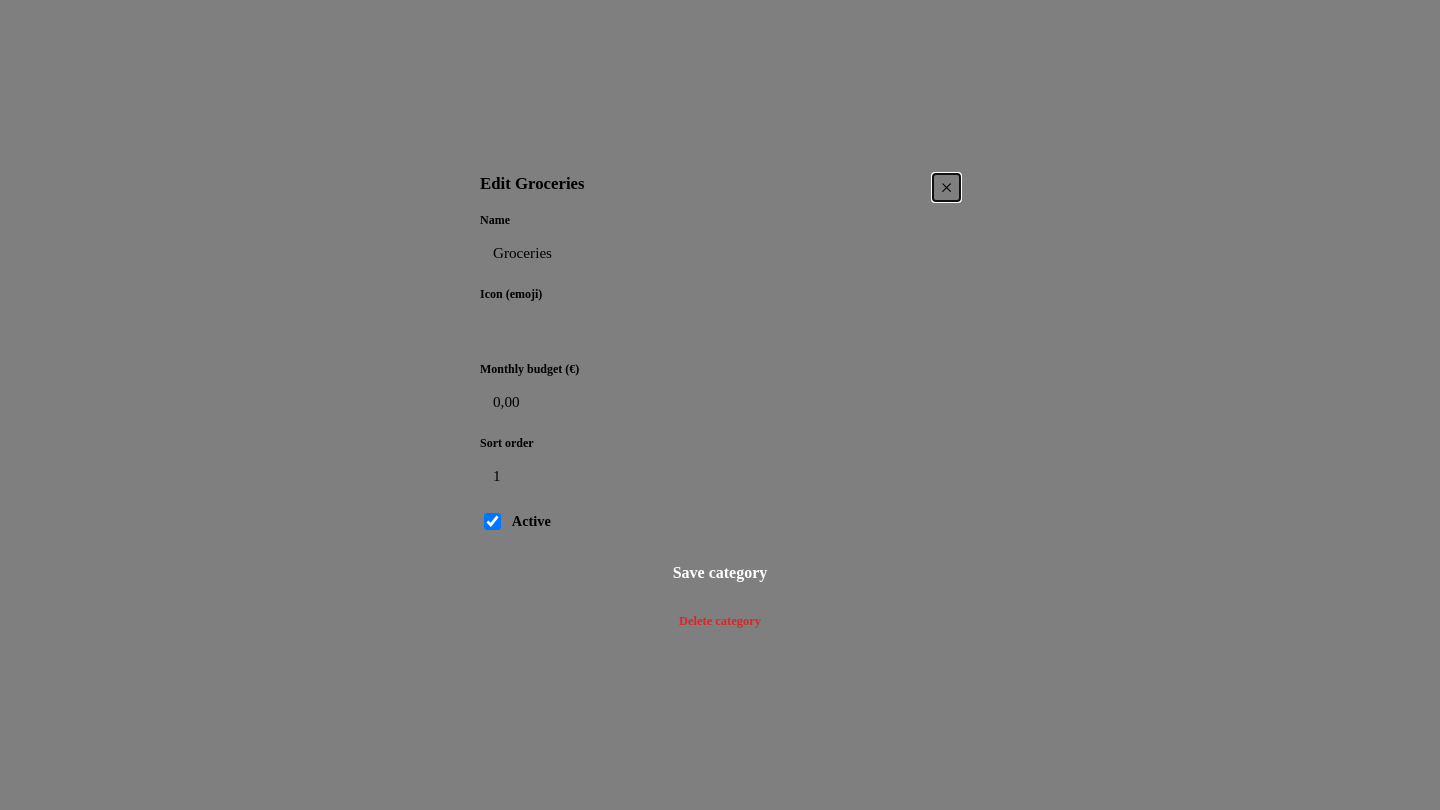
Test case: deleting a category or account from a window › asks to reassign when the server counts rows that are not held, which the window shows as none
Click the button "Delete category" at {"x": 720, "y": 621}, box [480,608,960,634]
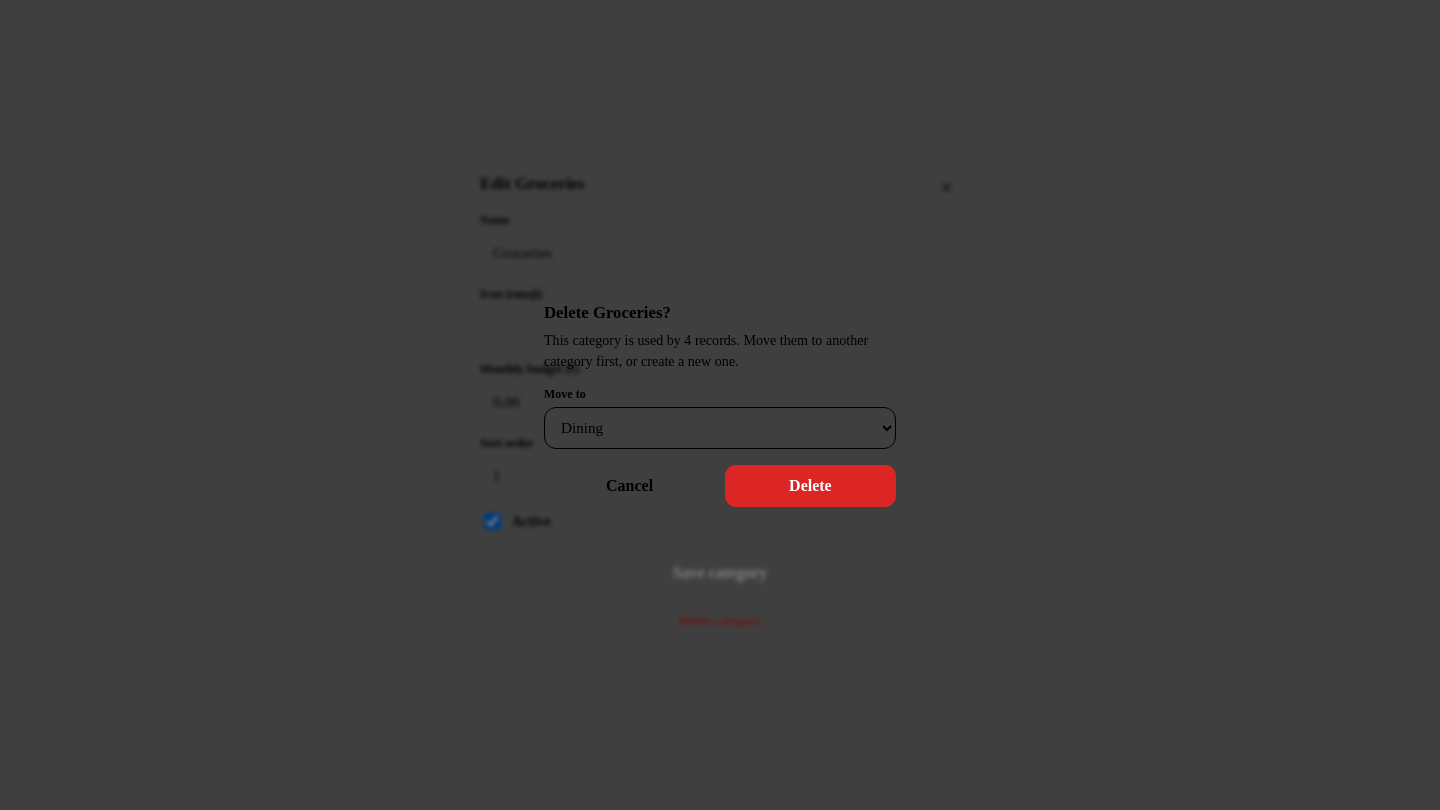
expect the text "used by 4 records" is shown: met, box [544,332,868,369]
